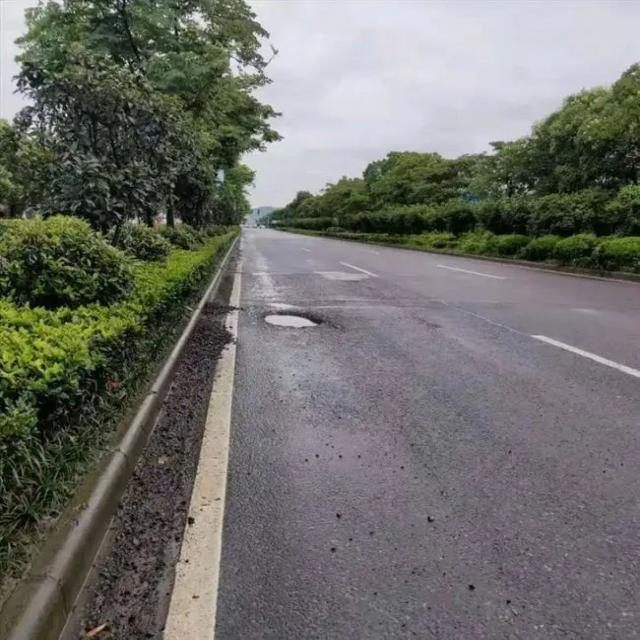Pothole: (264, 314, 318, 328)
